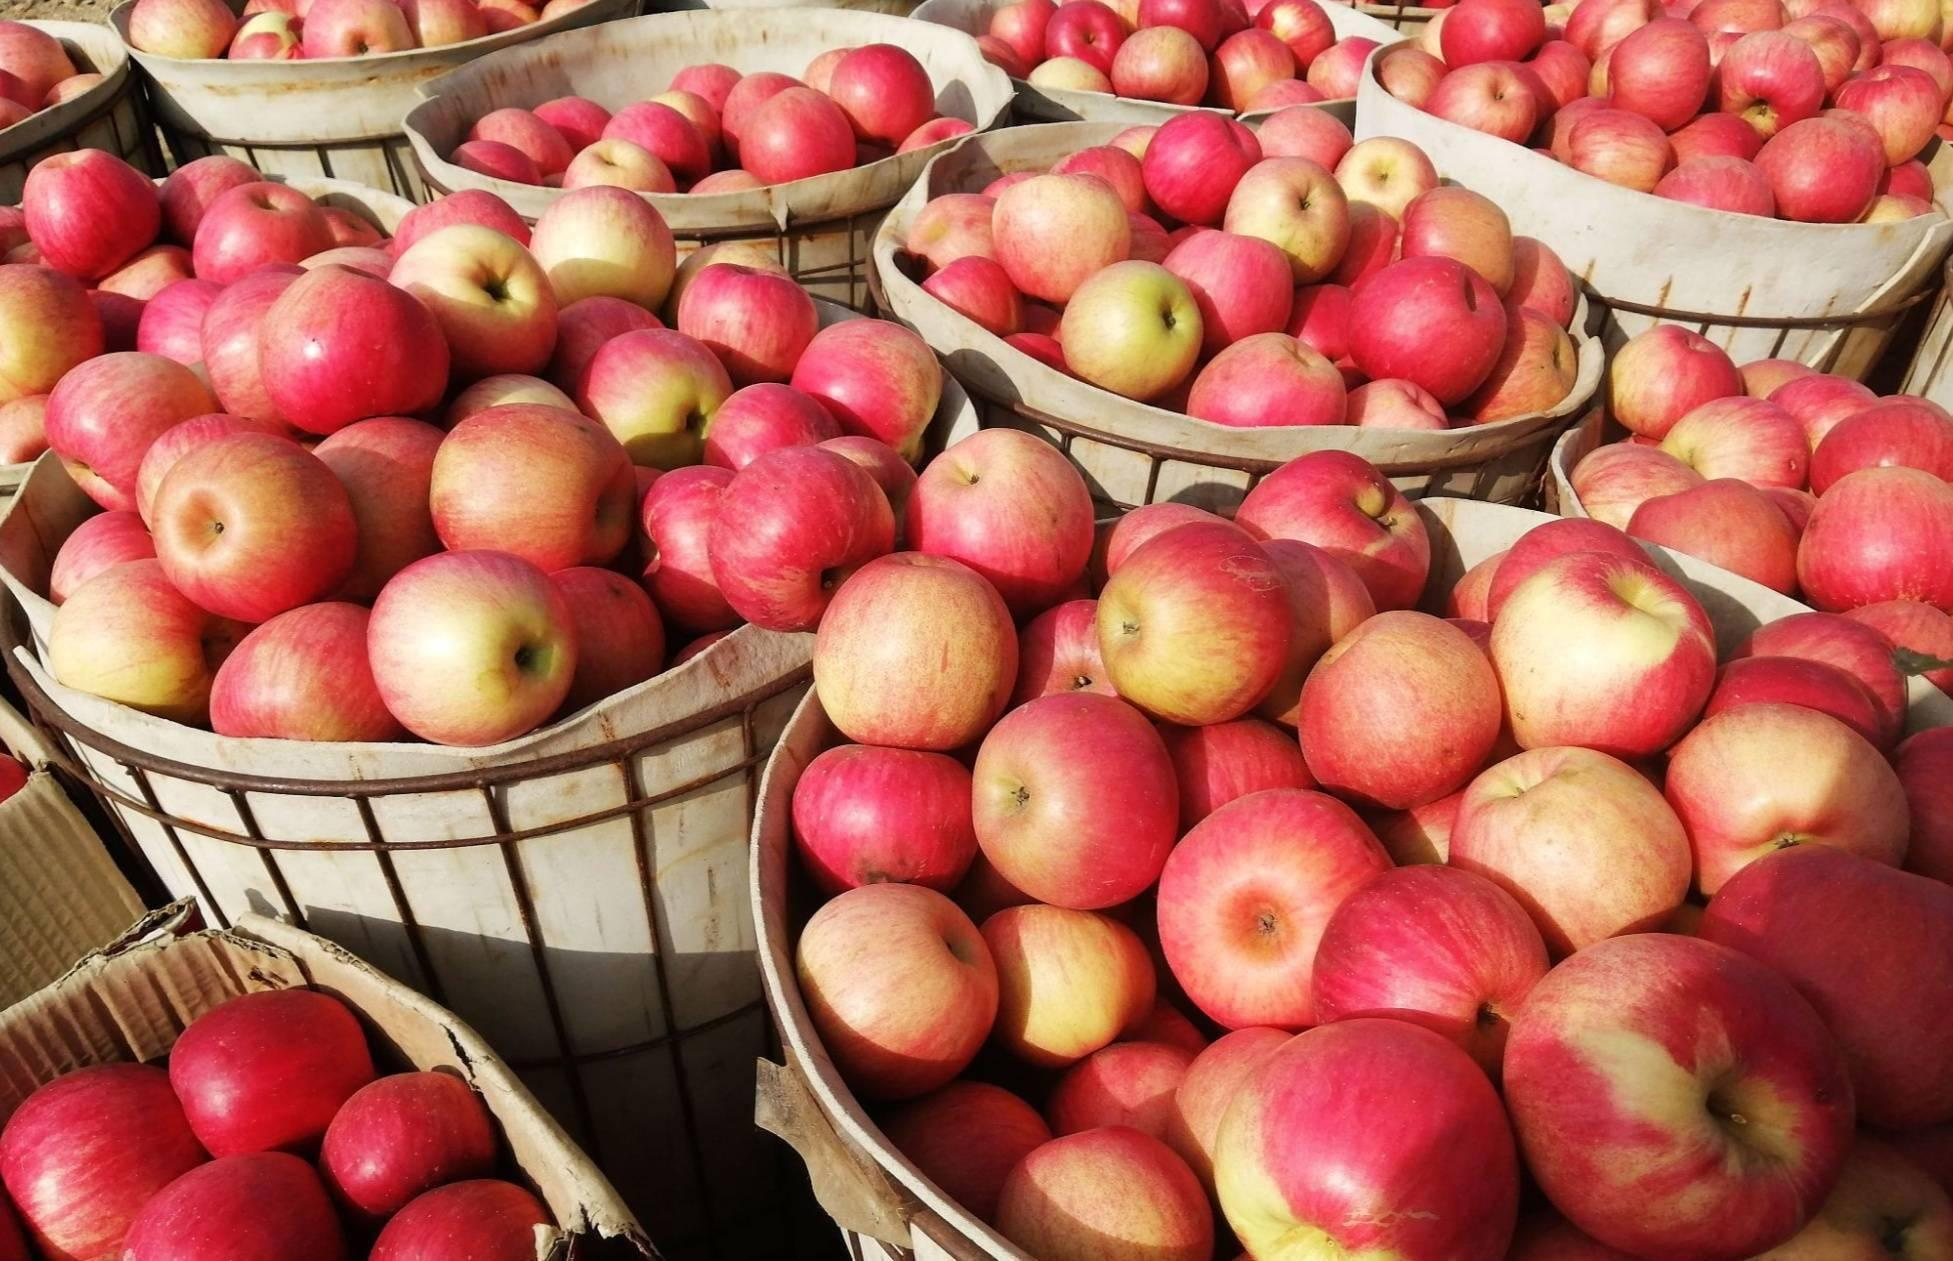apple: (1505, 934, 1855, 1260), (1694, 844, 1953, 1131), (1210, 1016, 1515, 1260), (1154, 787, 1394, 1028), (1315, 860, 1547, 1075), (1453, 744, 1695, 945), (1483, 551, 1717, 756), (1675, 705, 1907, 897), (1093, 514, 1295, 727), (974, 692, 1176, 901), (367, 549, 584, 744), (811, 551, 1018, 749), (1, 1065, 208, 1261), (1298, 608, 1500, 807), (148, 431, 359, 621), (806, 887, 1001, 1087), (164, 985, 383, 1161), (426, 404, 633, 576), (710, 448, 897, 635), (912, 428, 1093, 608), (1231, 448, 1433, 608), (201, 599, 404, 749), (793, 739, 984, 897), (46, 555, 221, 724), (323, 1060, 504, 1223), (38, 352, 216, 514), (263, 268, 446, 426), (979, 904, 1152, 1067), (1001, 1127, 1210, 1261), (387, 223, 557, 376), (115, 1151, 343, 1261), (1795, 471, 1950, 618), (1056, 259, 1206, 404), (1357, 259, 1510, 394), (584, 332, 733, 465), (21, 147, 169, 279), (797, 317, 937, 454), (1628, 480, 1801, 586), (639, 465, 744, 633), (678, 259, 818, 381), (532, 189, 673, 306), (1221, 157, 1347, 286), (369, 1177, 552, 1261), (998, 176, 1126, 296), (1607, 327, 1748, 436), (1186, 332, 1342, 427), (1166, 231, 1297, 344), (186, 179, 332, 279), (1139, 114, 1263, 228), (1657, 397, 1808, 490), (1718, 26, 1829, 145), (1757, 118, 1879, 226), (1399, 185, 1515, 296), (831, 41, 932, 148), (1611, 21, 1710, 131), (737, 90, 853, 182), (1425, 56, 1536, 151), (1836, 65, 1942, 165), (1337, 137, 1441, 223), (1566, 105, 1665, 194), (920, 253, 1018, 334), (1106, 24, 1206, 104), (1, 23, 73, 127), (295, 1, 414, 61), (1436, 1, 1546, 65), (122, 1, 238, 60), (1043, 1, 1126, 75), (564, 135, 672, 189), (1347, 379, 1448, 431), (223, 9, 300, 63)
